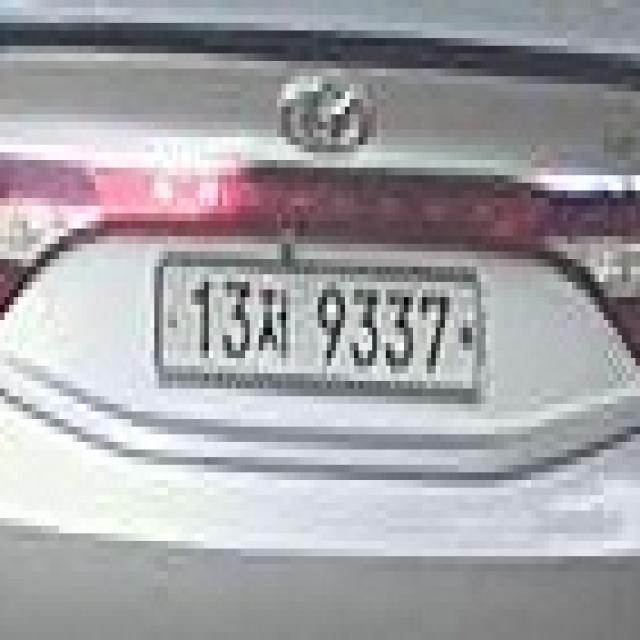plat: (152, 253, 488, 401)
